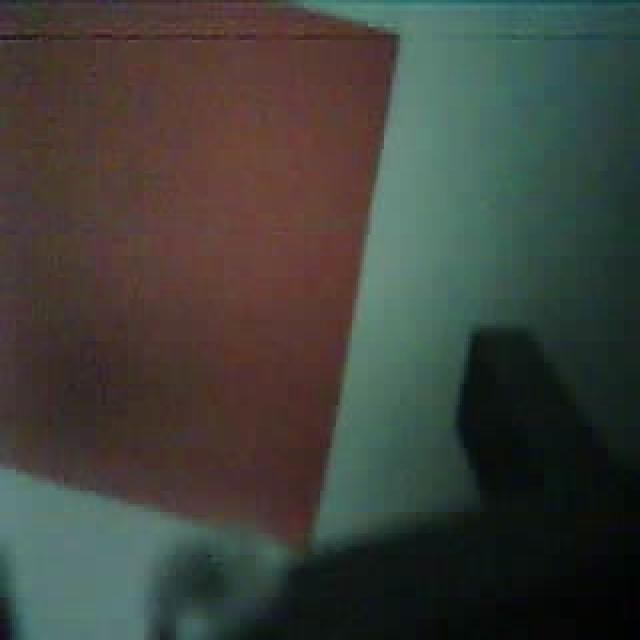red_box: (0, 3, 394, 563)
